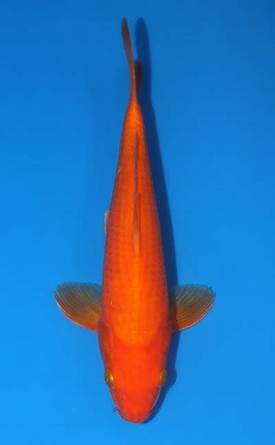red: (52, 19, 214, 424)
